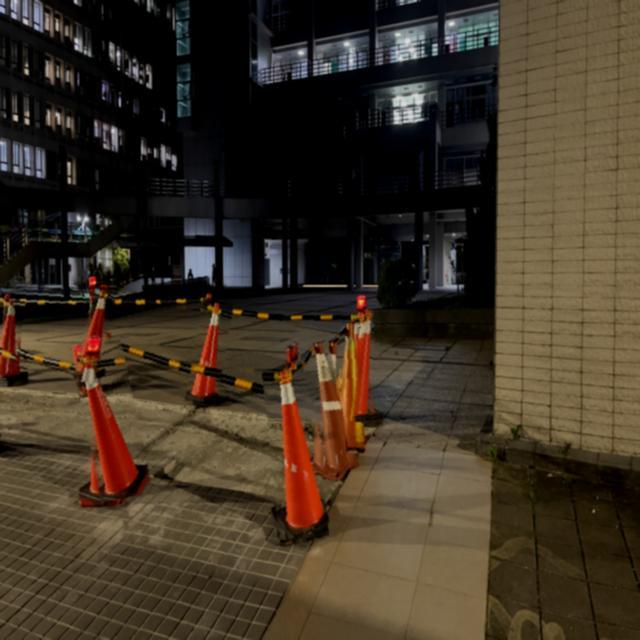traffic cone: (271, 365, 330, 546), (77, 364, 151, 508), (311, 343, 359, 481), (185, 304, 228, 407), (353, 317, 384, 425), (0, 298, 29, 387)
